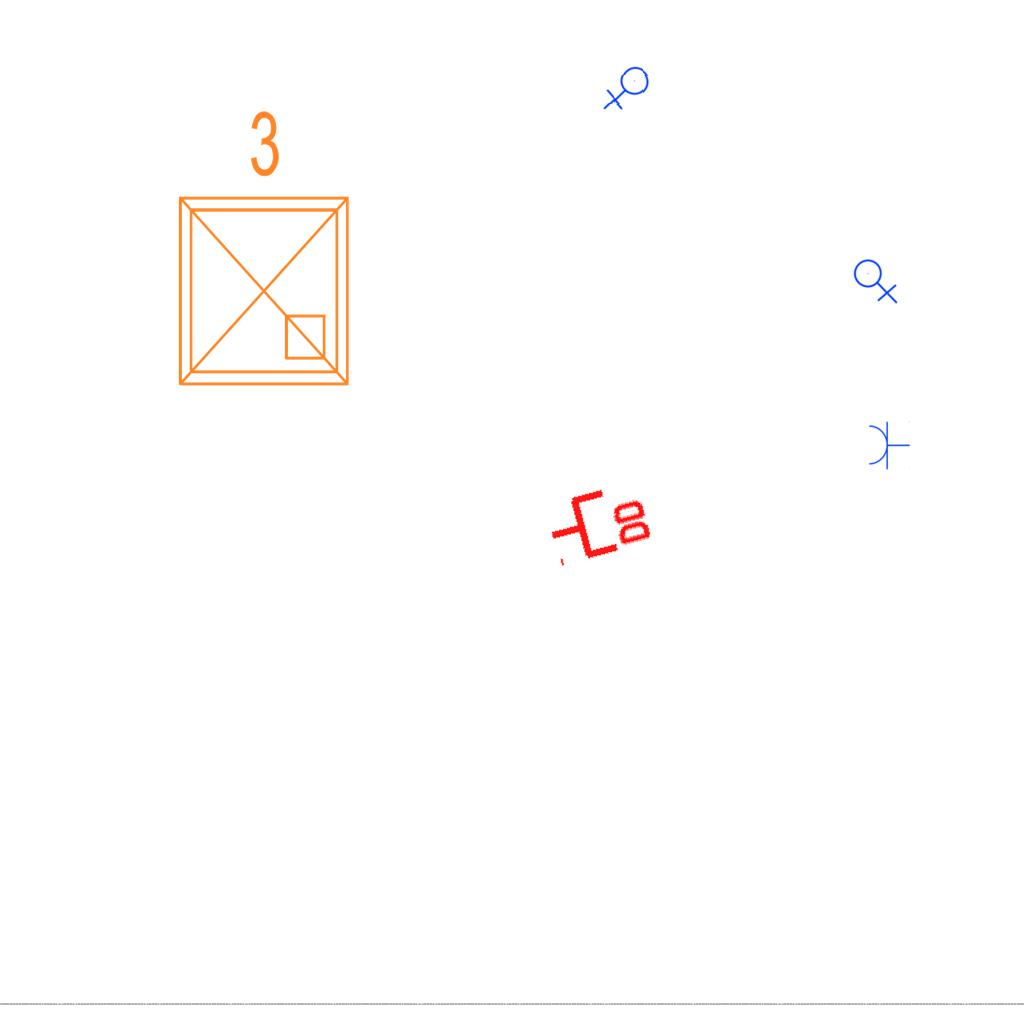Datenanschluss_zweifach: (539, 474, 658, 569)
Einbaudownlights_LED_Konferenzraeume: (156, 100, 364, 400)
Elektroanschluss_allgemein_230V_Geraeteanschlussdose_230V: (603, 65, 654, 114), (853, 255, 900, 304)
Schukosteckdose_einfach: (867, 420, 910, 470)
